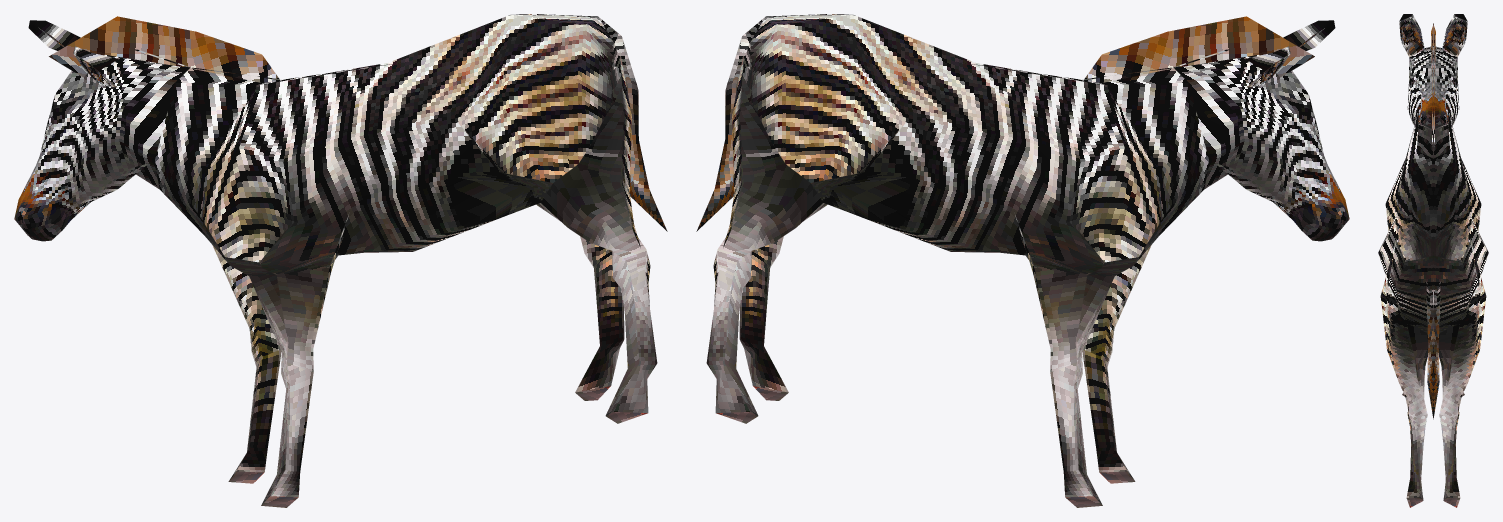
File: ps2_save-icons_cabelasafricansafari.glb
3 views of the same model, side by side, from view 1: azimuth 30°, elevation 25°; view 2: azimuth 150°, elevation 25°; view 3: azimuth 270°, elevation 25° (orthographic). The views are drawn at different scales.
Visible parts, largest first — view 1: static.ico; view 2: static.ico; view 3: static.ico.
Boxes of the visible parts, x1,y1,x2,y2 form: static.ico: (14,14,667,507); static.ico: (696,14,1349,507); static.ico: (1378,14,1488,507).
Bounding box in the file's own units: 4.86 × 3.63 × 1.14.
Materials: 1 (1 with a texture image).
